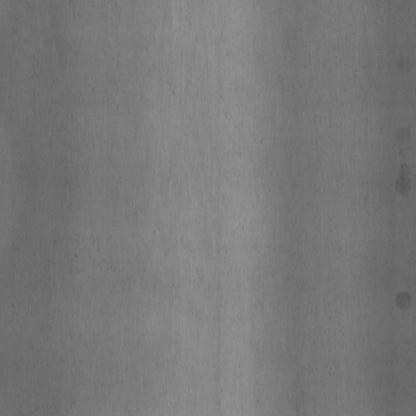oil_spot: (391, 121, 416, 196), (393, 286, 415, 311)
